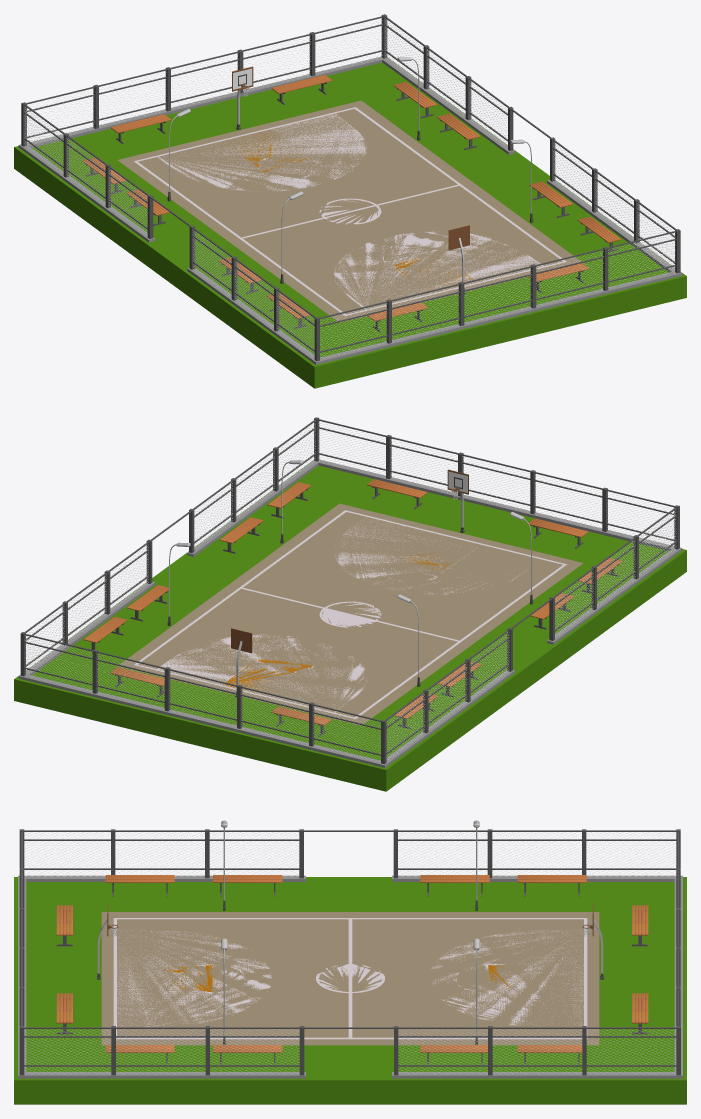
File: backetball_court.fbx
3 views of the same model, one above another, from view 1: azimuth 30°, elevation 25°; view 2: azimuth 150°, elevation 25°; view 3: azimuth 270°, elevation 25° (orthographic). The views are drawn at different scales.
Visible parts, largest first — view 1: Cube, Cube.006, Cube.005, Cube.001, base, Cube.020, Cube.019, Cube.016, Cube.018; view 2: Cube, Cube.006, Cube.005, Cube.001, base, Cube.021, Cube.022, Cube.016, Cube.015, Cube.017; view 3: Cube, Cube.006, Cube.005, Cube.001, base, Cube.004, Cube.014, Cube.002, Cube.003, Cube.019, Cube.021, Cube.016 (+5 smaller).
Boxes of the visible parts, x1,y1,x2,y2 form: Cube: [14, 57, 686, 388]; Cube.006: [24, 18, 675, 357]; Cube.005: [21, 14, 680, 361]; Cube.001: [18, 56, 682, 364]; base: [167, 57, 533, 283]; Cube.020: [271, 75, 332, 104]; Cube.019: [110, 114, 171, 144]; Cube.016: [529, 181, 572, 217]; Cube.018: [393, 82, 436, 118]; Cube: [14, 460, 686, 791]; Cube.006: [25, 421, 676, 761]; Cube.005: [20, 417, 679, 764]; Cube.001: [18, 459, 682, 767]; base: [167, 460, 533, 686]; Cube.021: [528, 518, 588, 548]; Cube.022: [367, 479, 427, 509]; Cube.016: [219, 517, 263, 553]; Cube.015: [127, 585, 170, 621]; Cube.017: [267, 482, 311, 518]; Cube: [14, 877, 686, 1104]; Cube.006: [24, 832, 676, 1073]; Cube.005: [19, 829, 680, 1075]; Cube.001: [18, 875, 682, 1078]; base: [221, 820, 479, 1044]; Cube.004: [105, 875, 174, 896]; Cube.014: [517, 875, 586, 896]; Cube.002: [420, 875, 489, 896]; Cube.003: [213, 875, 282, 896]; Cube.019: [632, 905, 648, 946]; Cube.021: [56, 905, 72, 946]; Cube.016: [213, 1045, 282, 1064].
Bounding box in the file's own units: 2398 × 669 × 3353.
